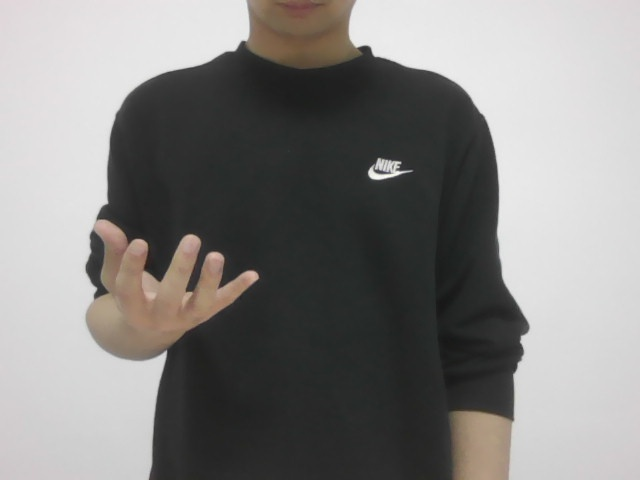flavor: (80, 214, 262, 349)
